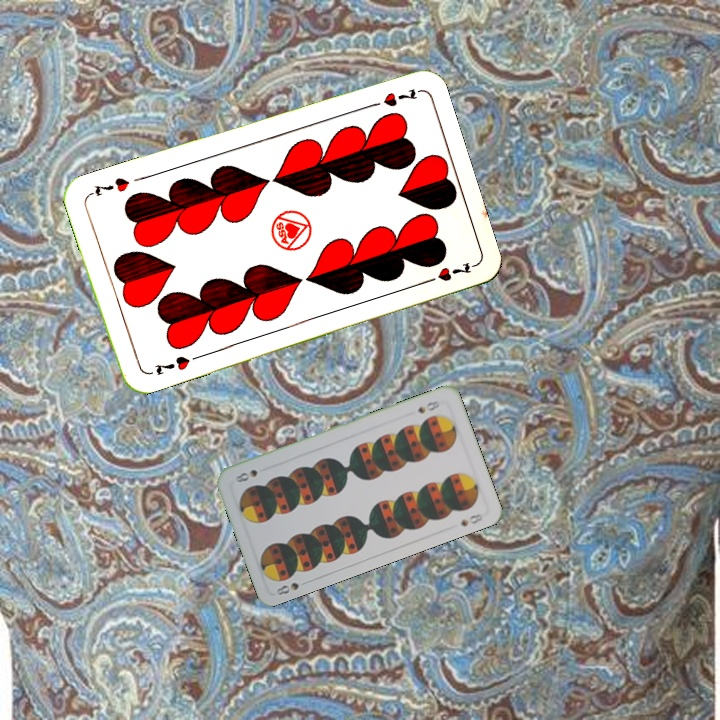H7: (363, 84, 421, 111), (150, 352, 192, 378)
S8: (272, 578, 301, 598), (414, 396, 442, 416)
